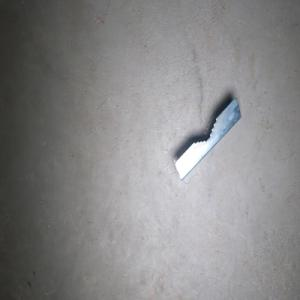ClampPart: (172, 96, 241, 181)
